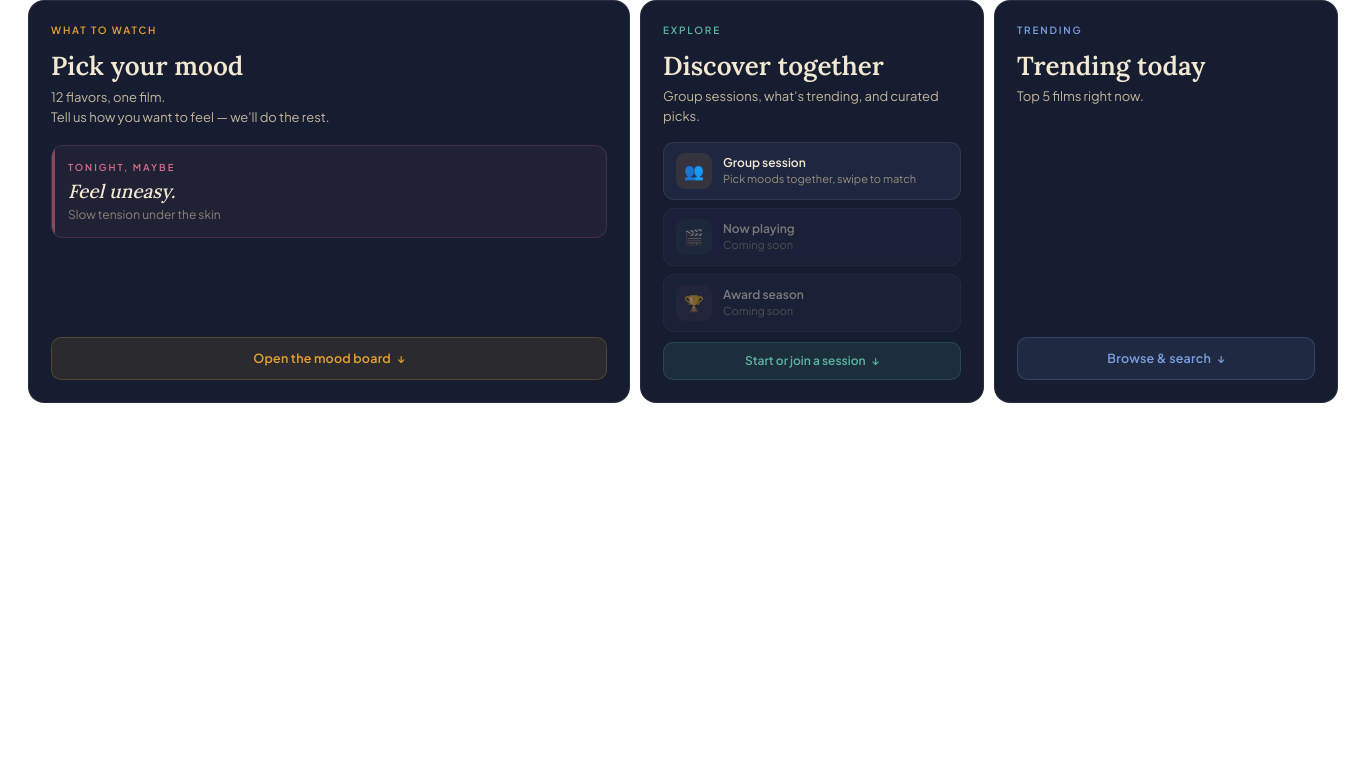
Scenario: DashboardShell, desktop › Browse & search closes search as well as opening it
Click the button "Browse & search ↓" at (1166, 359), box [1017,337,1315,380]
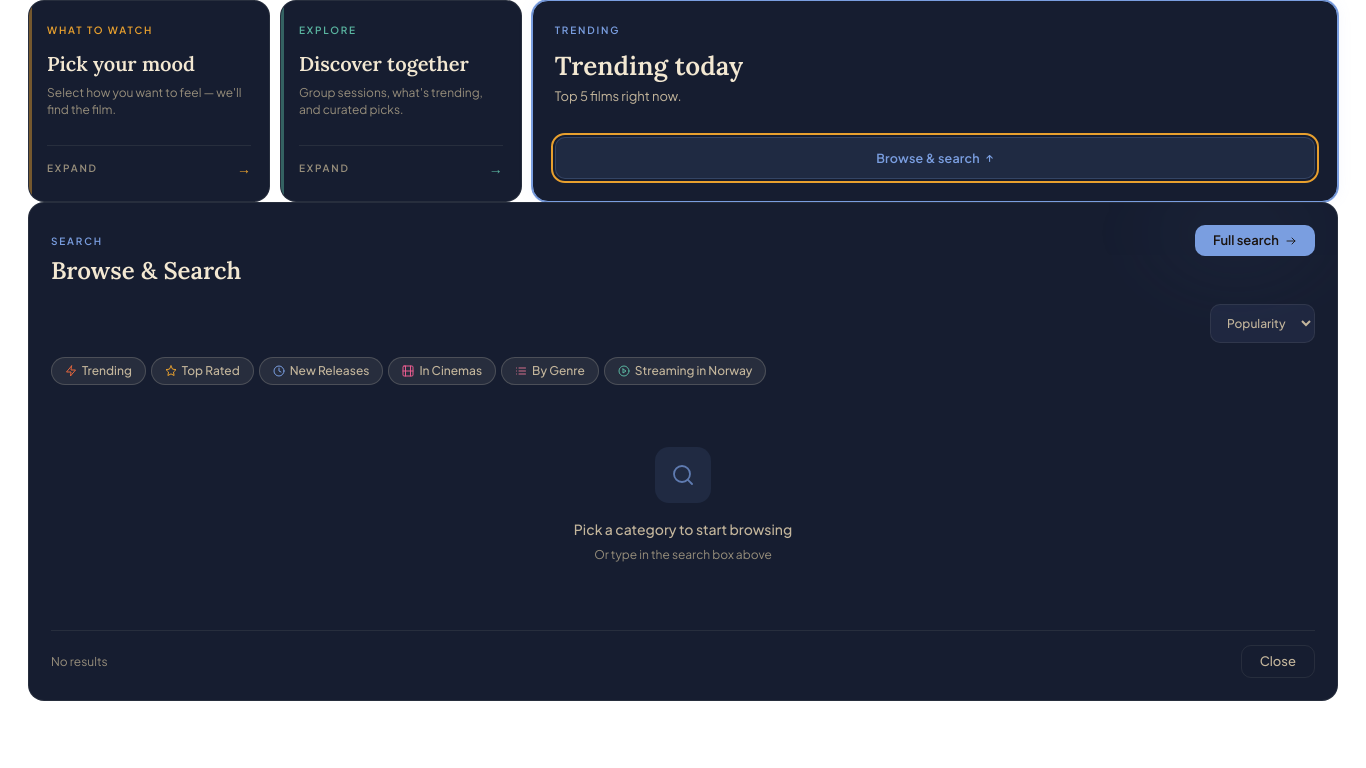
Expected: the button "Browse & search ↓" is expanded
Click the button "Browse & search ↓" at (935, 158), box [555,137,1315,180]
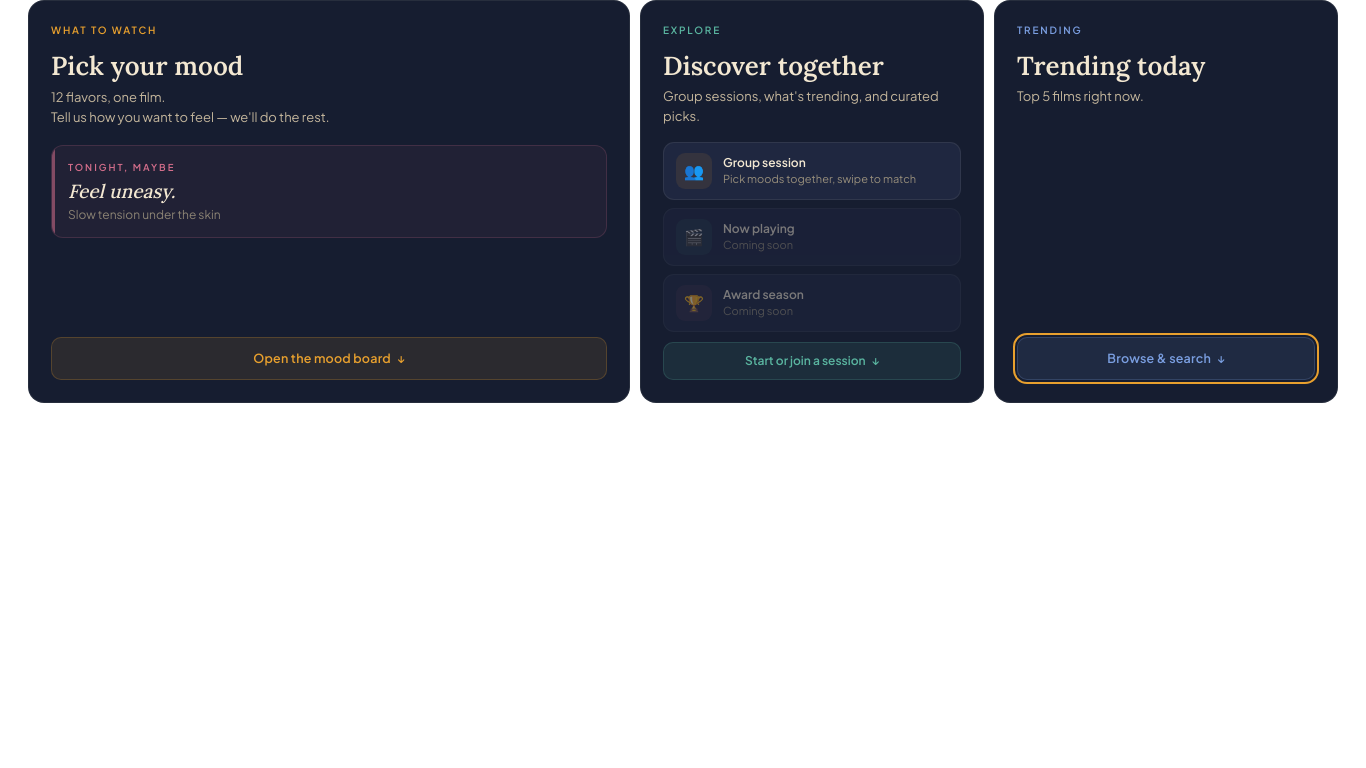
Expected: the button "Browse & search ↓" is collapsed, [1017,337,1315,380]
